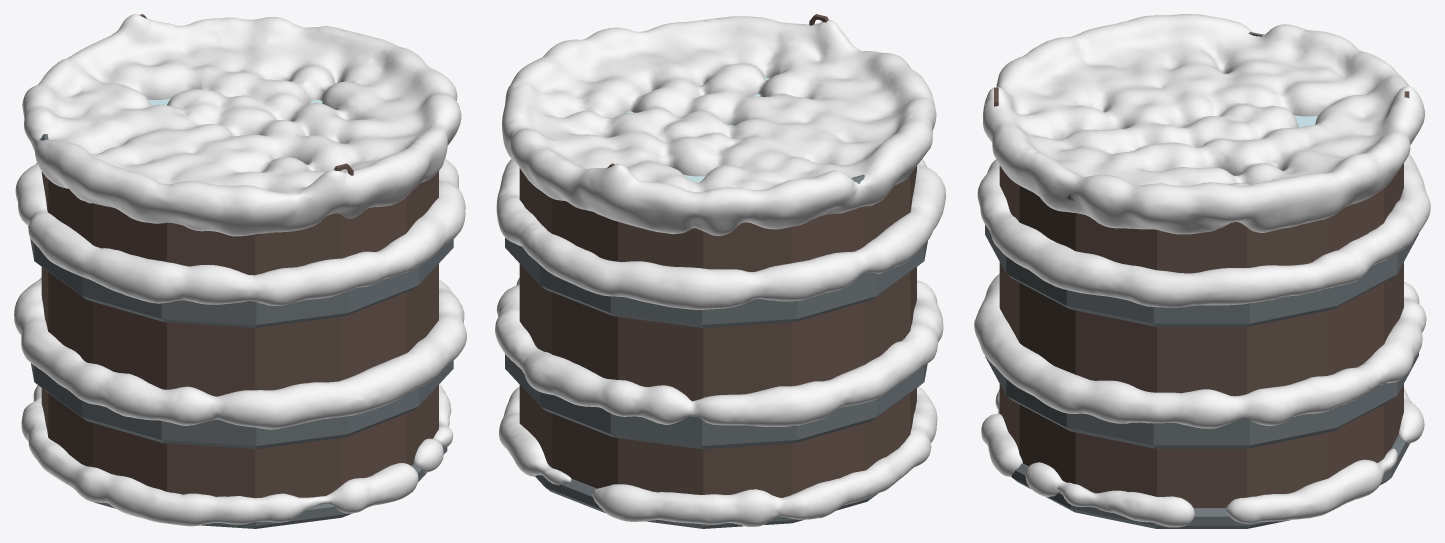
Rendered from BucketSNOW.fbx.
3 renders of one model, left to right at view 1: azimuth 30°, elevation 25°; view 2: azimuth 150°, elevation 25°; view 3: azimuth 270°, elevation 25°, orthographic.
Parts seen in each view (by area): view 1: SnowBall.001, Cylinder.002; view 2: SnowBall.001, Cylinder.002; view 3: SnowBall.001, Cylinder.002.
Boxes of the visible parts, box(x1,y1,x2,y2) form: SnowBall.001: box(14, 14, 466, 526); Cylinder.002: box(28, 14, 453, 528); SnowBall.001: box(495, 16, 945, 526); Cylinder.002: box(505, 14, 927, 528); SnowBall.001: box(974, 14, 1430, 527); Cylinder.002: box(985, 32, 1418, 528).
Size of the model in its own units: 223 by 195 by 226.
